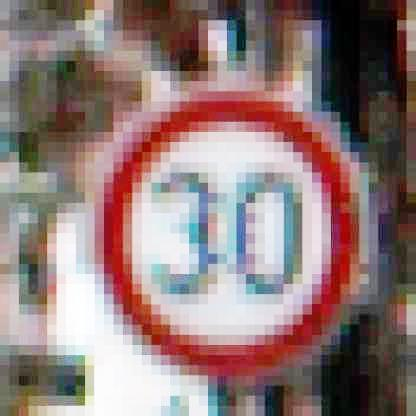Speed Limit -30-: (91, 86, 373, 381)
